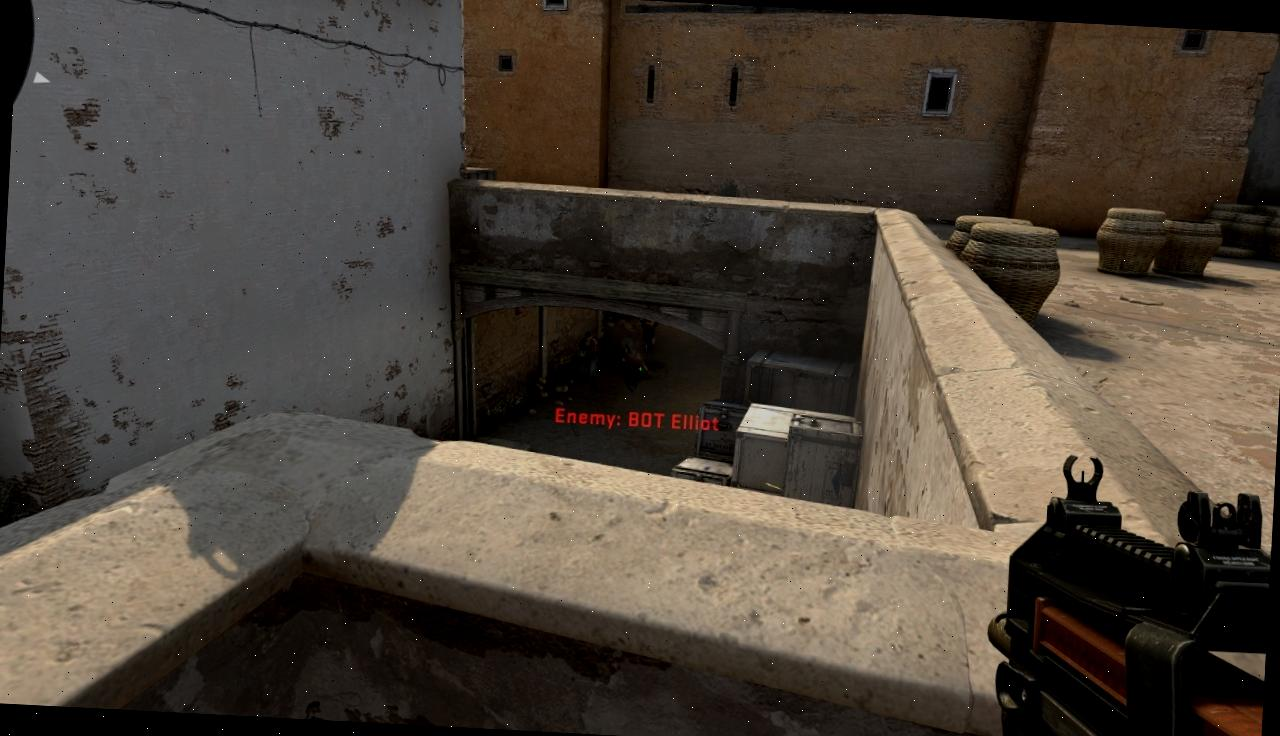rifle: (982, 452, 1275, 736)
tt: (576, 330, 600, 388), (638, 319, 658, 353)
tthead: (584, 330, 592, 340)
